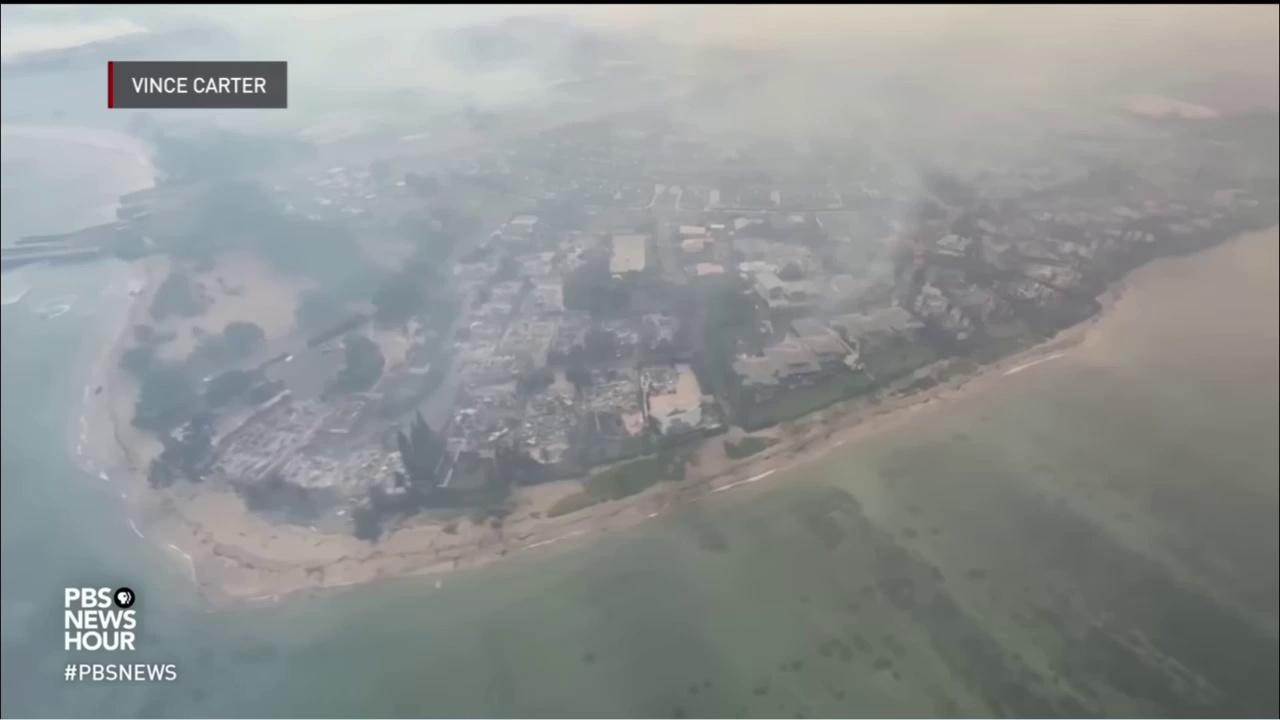smoke: (1, 4, 1280, 344)
